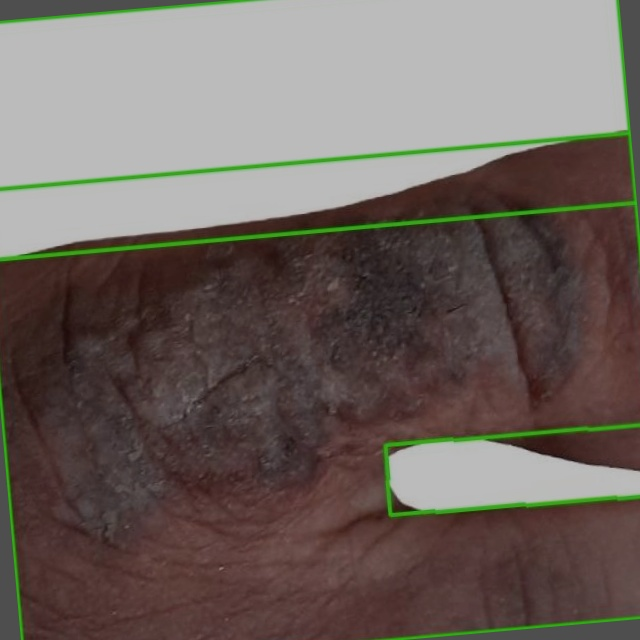Contact Dermatitis: (0, 132, 639, 639), (0, 0, 636, 259), (384, 425, 639, 515)
